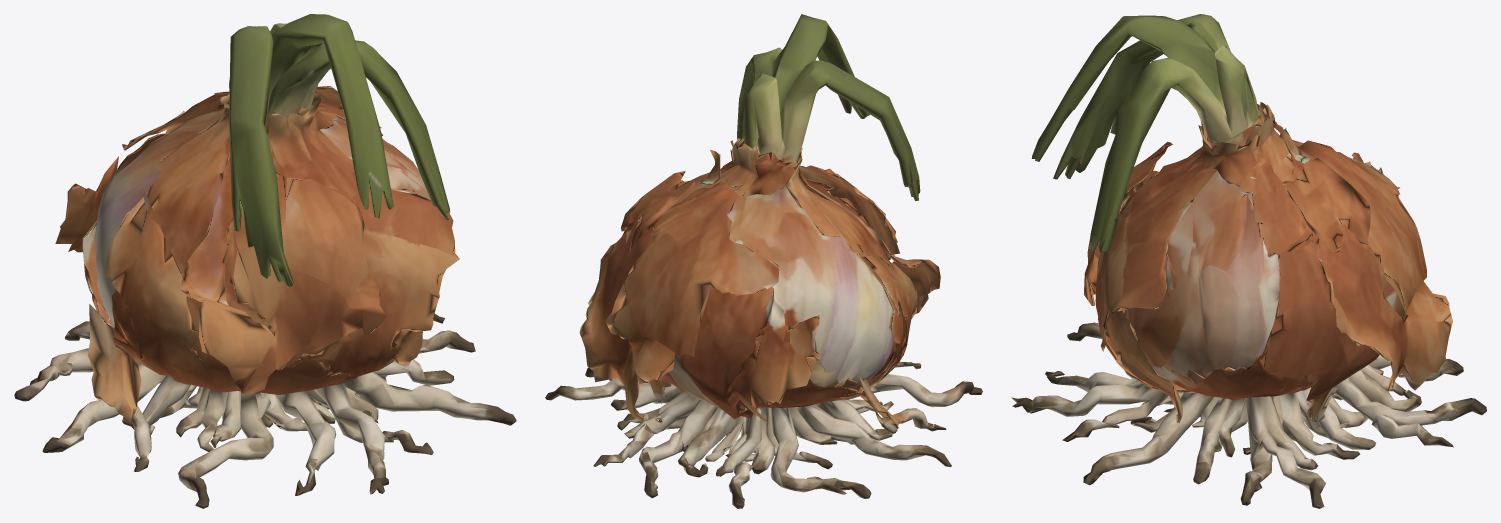
File: cebollon.glb
3 views of the same model, side by side, from view 1: azimuth 30°, elevation 25°; view 2: azimuth 150°, elevation 25°; view 3: azimuth 270°, elevation 25° (orthographic). The views are drawn at different scales.
Parts seen in each view (by area): view 1: Malla; view 2: Malla; view 3: Malla.
Boxes of the visible parts, left/top/right/bottom form: Malla: left=14, top=14, right=516, bottom=508; Malla: left=545, top=14, right=982, bottom=508; Malla: left=1011, top=14, right=1486, bottom=508.
Bounding box in the file's own units: 1.84 × 1.7 × 1.85.
Materials: 1 (1 with a texture image).
